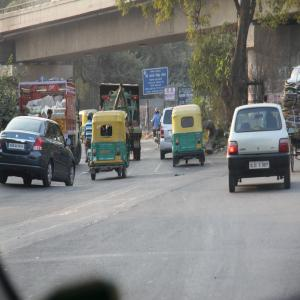Vehicle-registration-plate: (251, 163, 272, 171), (9, 142, 25, 151), (117, 155, 122, 161), (197, 144, 202, 149)
